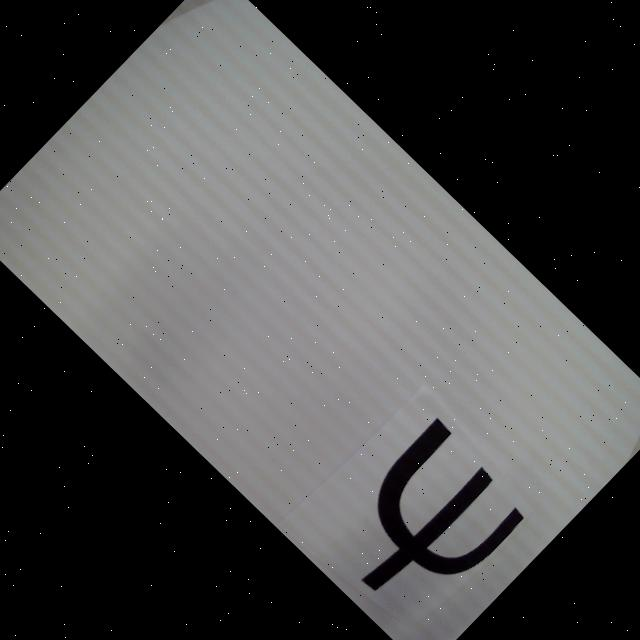PSI: (316, 416, 533, 634)
